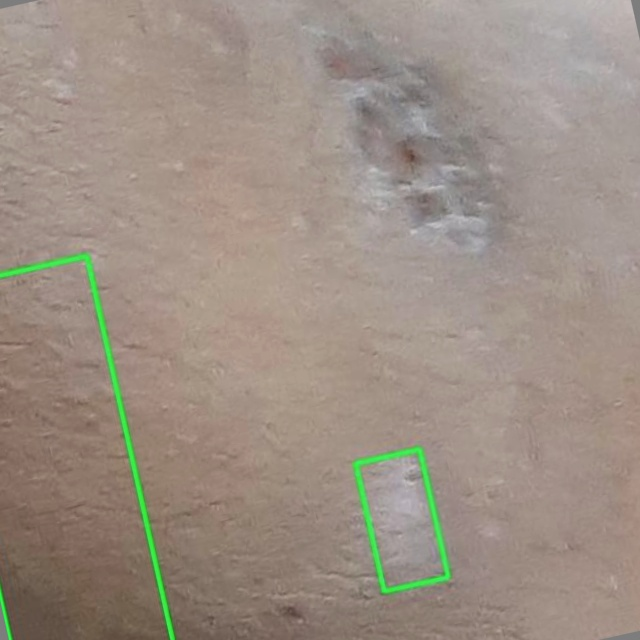Atopic Dermatitis: (0, 257, 172, 639), (355, 448, 448, 591)
